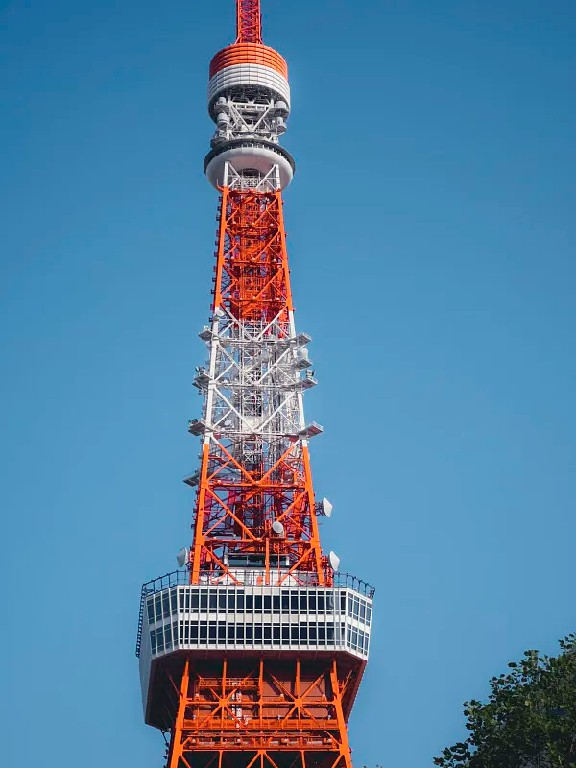Tokyo: (132, 1, 376, 765)
